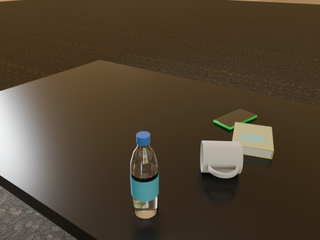book: (232, 122, 274, 159)
bottle: (130, 131, 159, 219)
cup: (201, 141, 243, 178)
phone: (214, 109, 257, 130)
